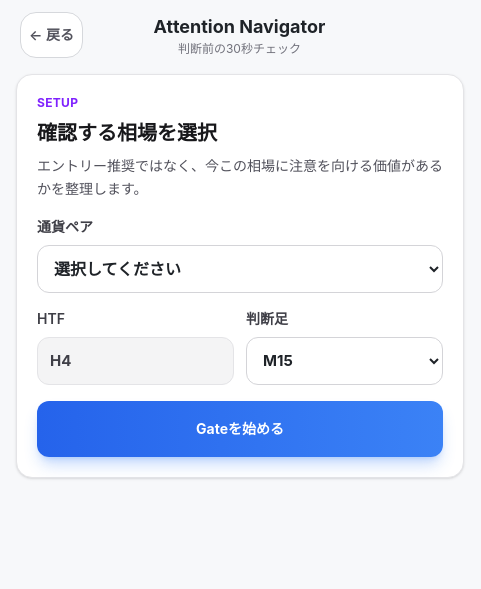
Test: AttentionNavigatorPage › stores unknown as HOLD without showing Judgment
Select "XAU/USD" in the dropdown named "Attention 通貨ペア" at coordinates (240, 268), box [37,244,443,292]
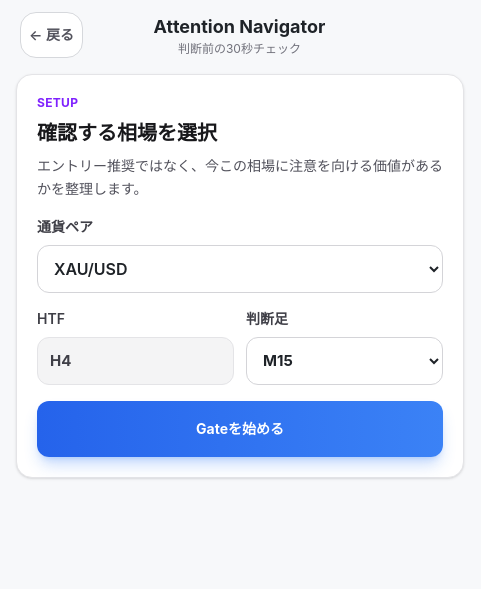
Click the button with test id "attention-setup-start" at coordinates (240, 428), box [37,400,443,456]
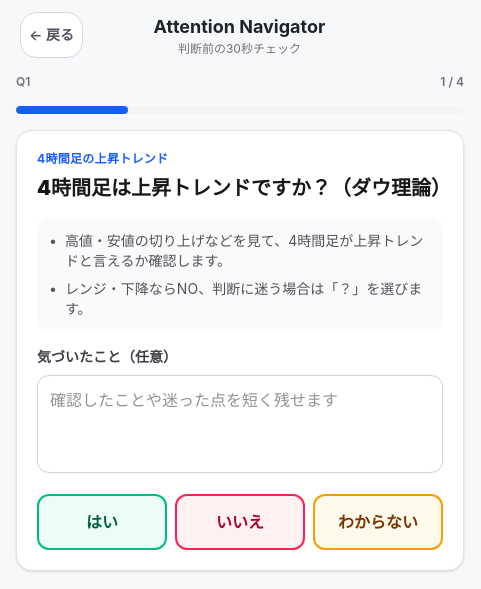
Click the button with test id "attention-answer-unknown" at coordinates (378, 522), box [313,494,443,550]
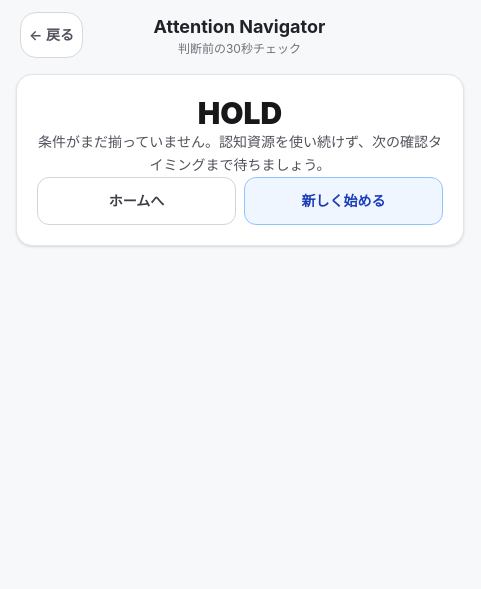
expect the element with test id "attention-result" shows "HOLD": met, box [198,95,282,131]
